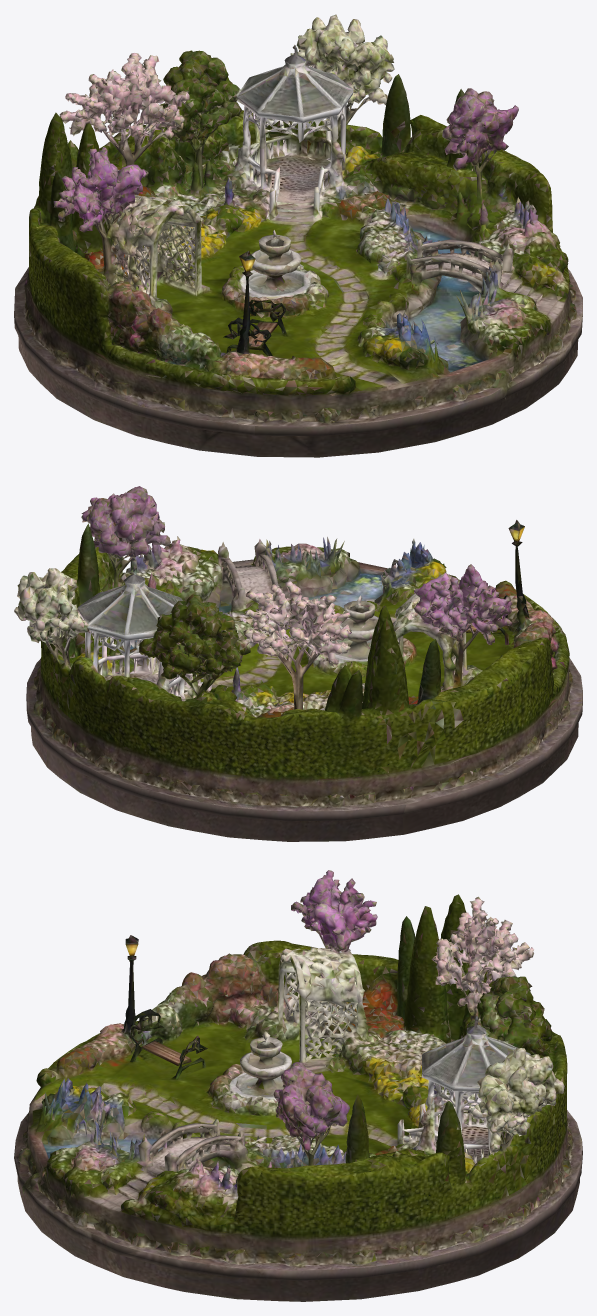
The model's file is Enchanted_Garden_with.glb.
The picture shows the model from 3 angles, top to bottom: view 1: azimuth 30°, elevation 25°; view 2: azimuth 150°, elevation 25°; view 3: azimuth 270°, elevation 25°; orthographic projection. The views are drawn at different scales.
Parts seen in each view (by area): view 1: Enchanted_Garden_with; view 2: Enchanted_Garden_with; view 3: Enchanted_Garden_with.
Part boxes in pixels (x1,y1,x2,y2): Enchanted_Garden_with: (14, 14, 582, 457); Enchanted_Garden_with: (14, 486, 582, 841); Enchanted_Garden_with: (14, 870, 582, 1301).
Size of the model in its own units: 1.89 by 0.8572 by 1.89.
Materials: 1 (1 with a texture image).
